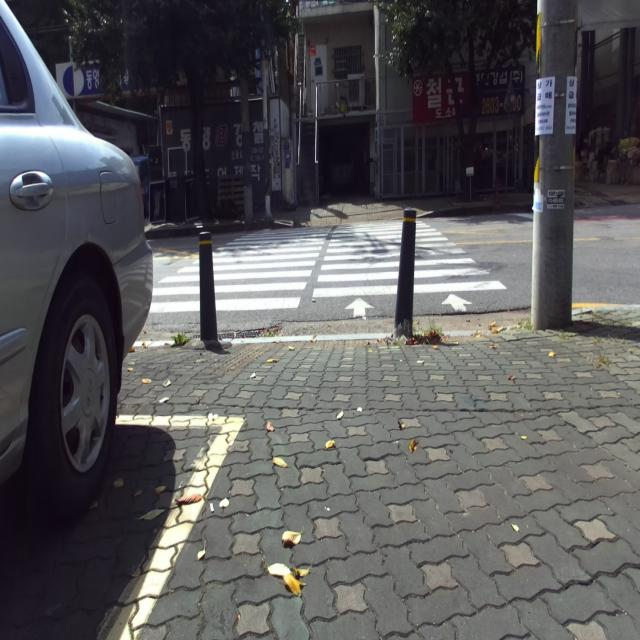횡단보도: (149, 220, 507, 320)
